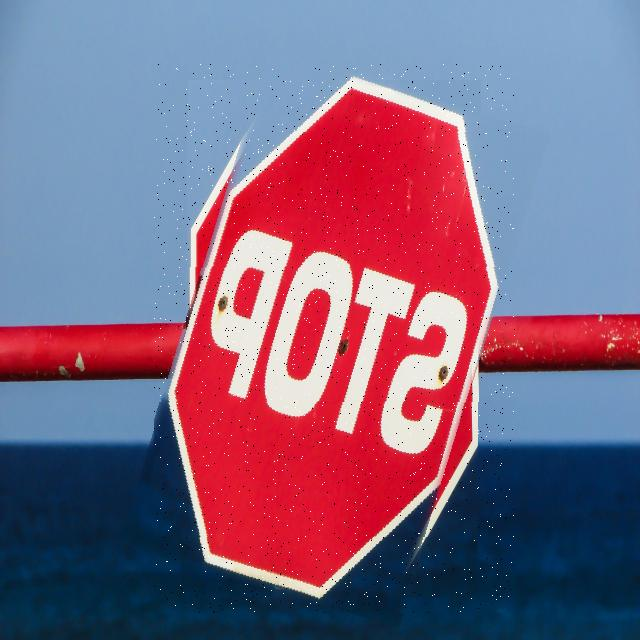stop: (154, 64, 515, 613)
